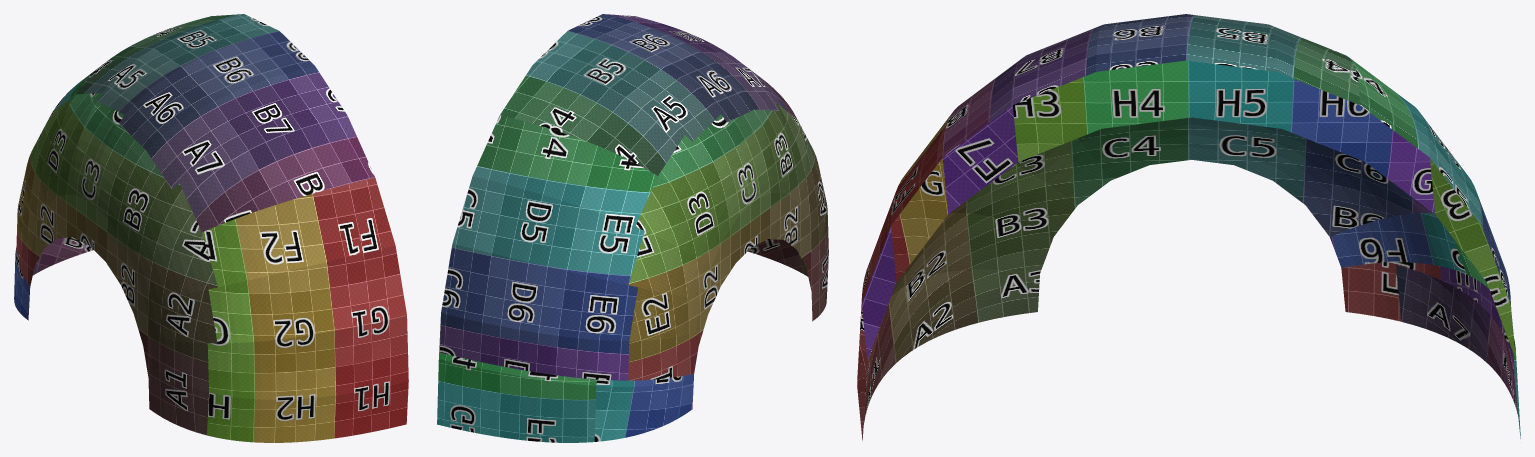
Rendered from gate.glb.
3 renders of one model, left to right at view 1: azimuth 30°, elevation 25°; view 2: azimuth 150°, elevation 25°; view 3: azimuth 270°, elevation 25°, orthographic. The views are drawn at different scales.
Parts seen in each view (by area): view 1: NurbsPath; view 2: NurbsPath; view 3: NurbsPath.
Part boxes in pixels (left/top/right/bottom): NurbsPath: left=14, top=14, right=408, bottom=442; NurbsPath: left=437, top=14, right=828, bottom=442; NurbsPath: left=857, top=14, right=1520, bottom=440.
Bounding box in the file's own units: 1.56 × 2.38 × 3.75.
1 material, 1 textured.
